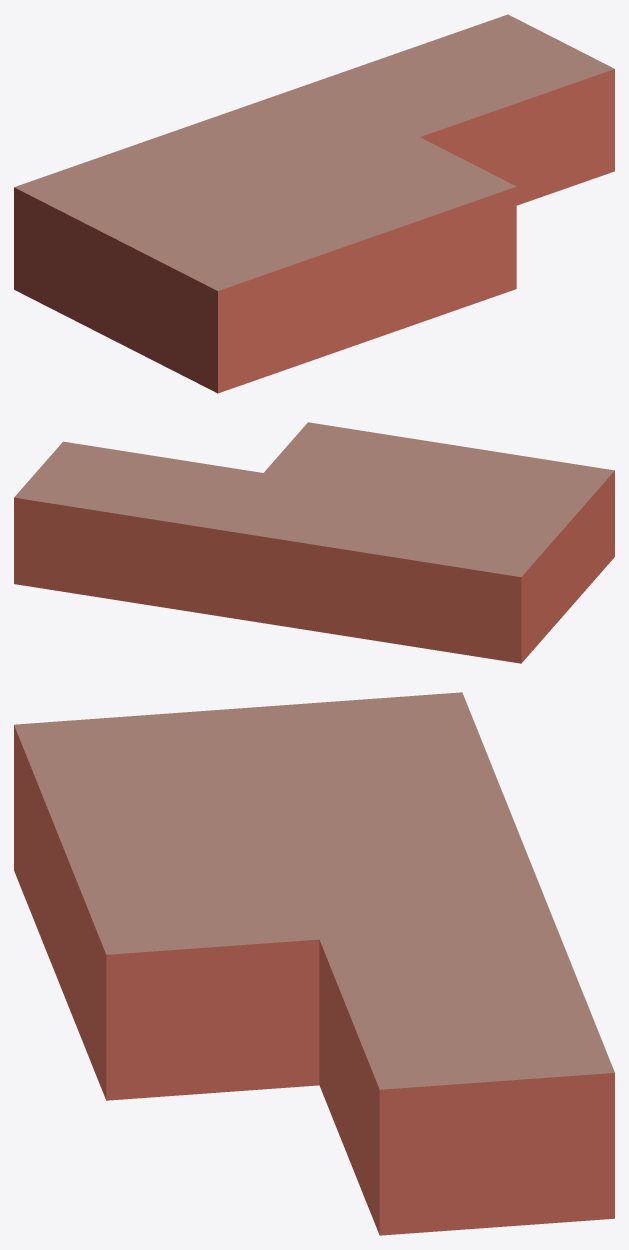
File: landmark_the-highlands.glb
The picture shows the model from 3 angles, top to bottom: view 1: azimuth 30°, elevation 25°; view 2: azimuth 150°, elevation 25°; view 3: azimuth 270°, elevation 25°; orthographic projection. The views are drawn at different scales.
Parts seen in each view (by area): view 1: Landmark_the_highlands_1, Landmark_the_highlands_0; view 2: Landmark_the_highlands_0, Landmark_the_highlands_1; view 3: Landmark_the_highlands_1, Landmark_the_highlands_0.
Part boxes in pixels (x1,y1,x2,y2): Landmark_the_highlands_1: [14, 14, 614, 290]; Landmark_the_highlands_0: [14, 69, 614, 393]; Landmark_the_highlands_0: [14, 471, 614, 663]; Landmark_the_highlands_1: [14, 422, 614, 576]; Landmark_the_highlands_1: [14, 692, 614, 1089]; Landmark_the_highlands_0: [14, 725, 614, 1235].
Size of the model in its own units: 35.28 by 6.04 by 22.55.
